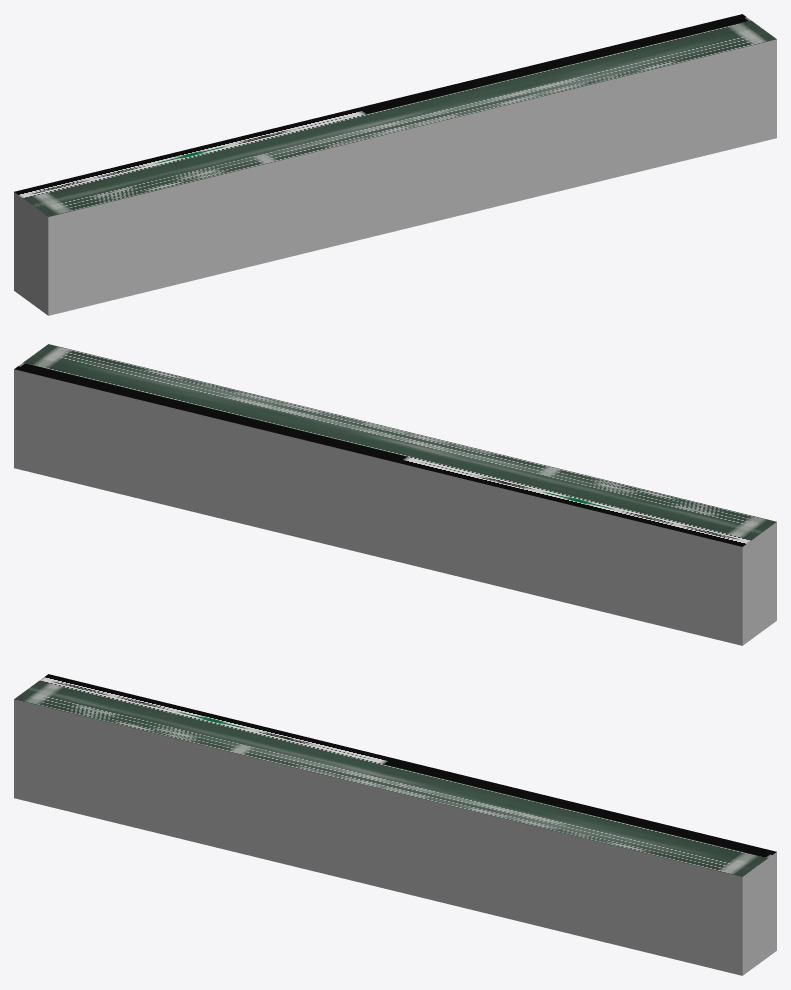
The picture shows the model from 3 angles, top to bottom: view 1: azimuth 30°, elevation 25°; view 2: azimuth 150°, elevation 25°; view 3: azimuth 330°, elevation 25°; orthographic projection.
Parts seen in each view (by area): view 1: Joint_0_Object_1, Joint_0_Object_0, Joint_0_Object_2; view 2: Joint_0_Object_1, Joint_0_Object_0, Joint_0_Object_2; view 3: Joint_0_Object_1, Joint_0_Object_0, Joint_0_Object_2.
Part boxes in pixels (<box>): Joint_0_Object_1: <box>48,39,776,315</box>; Joint_0_Object_0: <box>14,14,776,216</box>; Joint_0_Object_2: <box>14,192,48,315</box>; Joint_0_Object_1: <box>14,369,742,645</box>; Joint_0_Object_0: <box>14,344,776,546</box>; Joint_0_Object_2: <box>742,522,776,645</box>; Joint_0_Object_1: <box>14,699,742,975</box>; Joint_0_Object_0: <box>14,674,776,876</box>; Joint_0_Object_2: <box>742,852,776,975</box>.
Bounding box in the file's own units: 6000 × 778 × 492.
